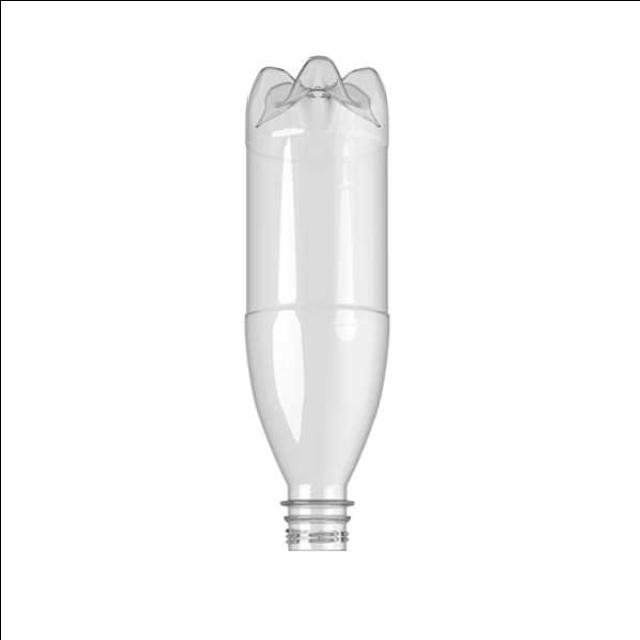bottom: (247, 57, 385, 144)
neck: (245, 307, 387, 550)
